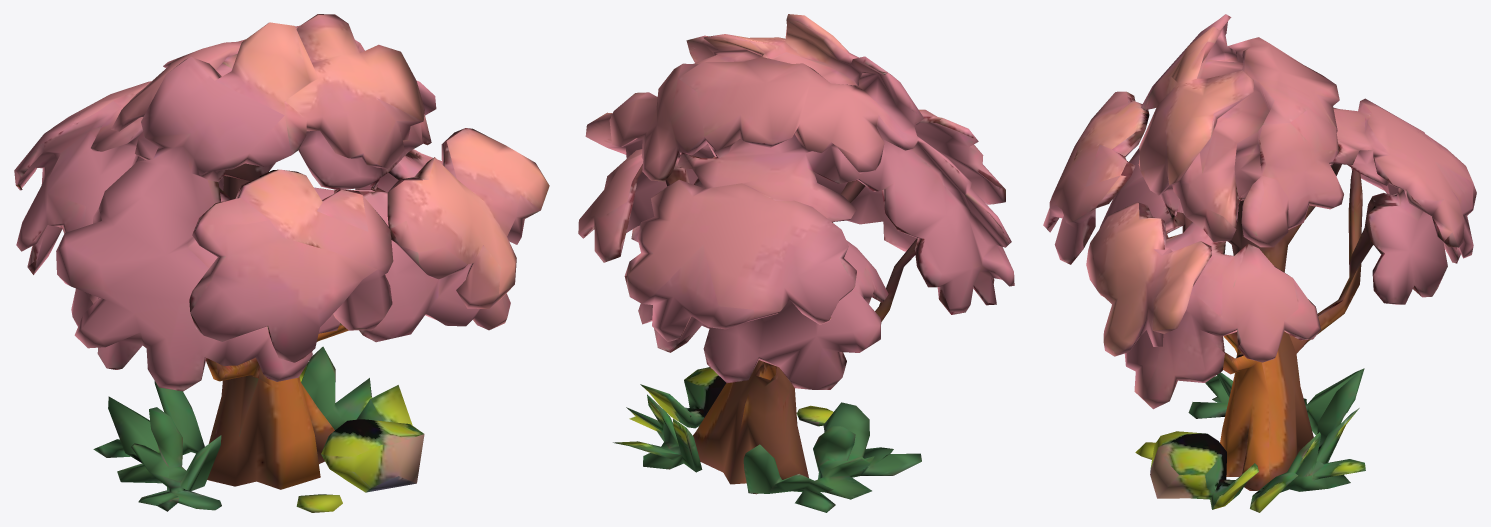
The model's file is albero_rosa.glb.
The picture shows the model from 3 angles, left to right: view 1: azimuth 30°, elevation 25°; view 2: azimuth 150°, elevation 25°; view 3: azimuth 270°, elevation 25°; orthographic projection. The views are drawn at different scales.
Visible parts, largest first — view 1: geometry_0; view 2: geometry_0; view 3: geometry_0.
Part boxes in pixels (x1=…): geometry_0: x1=14, y1=14, x2=549, y2=512; geometry_0: x1=578, y1=14, x2=1014, y2=512; geometry_0: x1=1043, y1=14, x2=1476, y2=512.
Bounding box in the file's own units: 7.1 × 6.8 × 6.23.
Materials: 1 (1 with a texture image).
